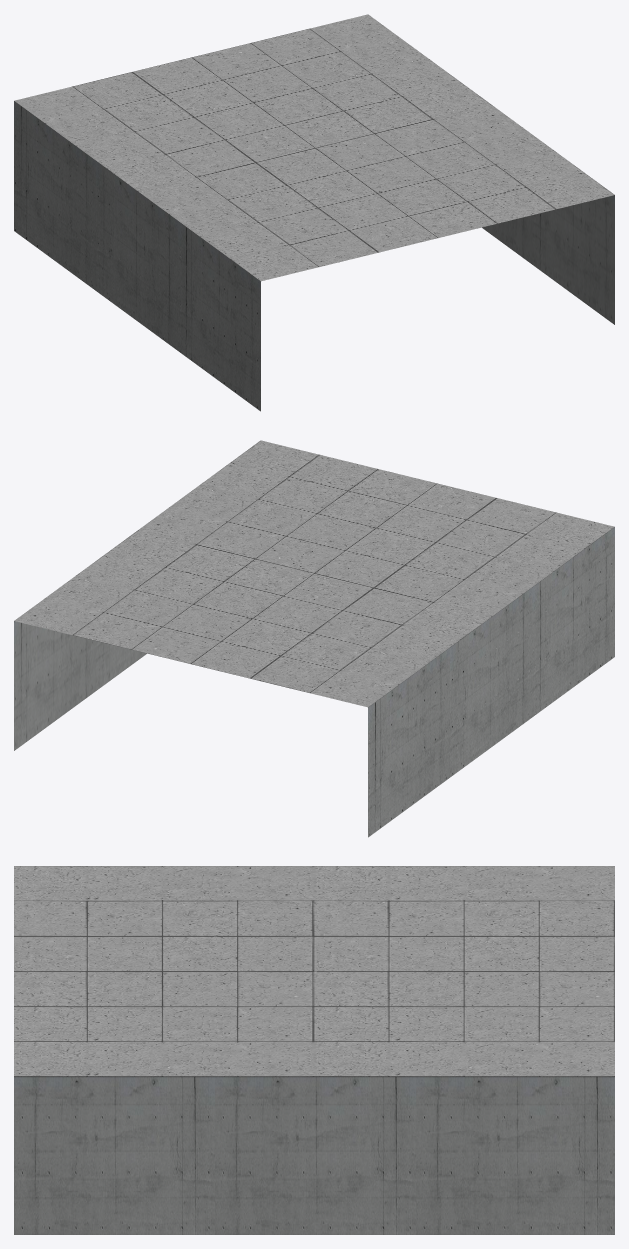
Rendered from river_tile.FBX.
The picture shows the model from 3 angles, top to bottom: view 1: azimuth 30°, elevation 25°; view 2: azimuth 150°, elevation 25°; view 3: azimuth 270°, elevation 25°; orthographic projection. The views are drawn at different scales.
Parts seen in each view (by area): view 1: Box001; view 2: Box001; view 3: Box001.
Boxes of the visible parts, <box> form: Box001: <box>14,14,614,411</box>; Box001: <box>14,440,614,837</box>; Box001: <box>14,866,614,1234</box>.
Size of the model in its own units: 38.03 by 13.36 by 45.91.
Materials: 1 (1 with a texture image).
